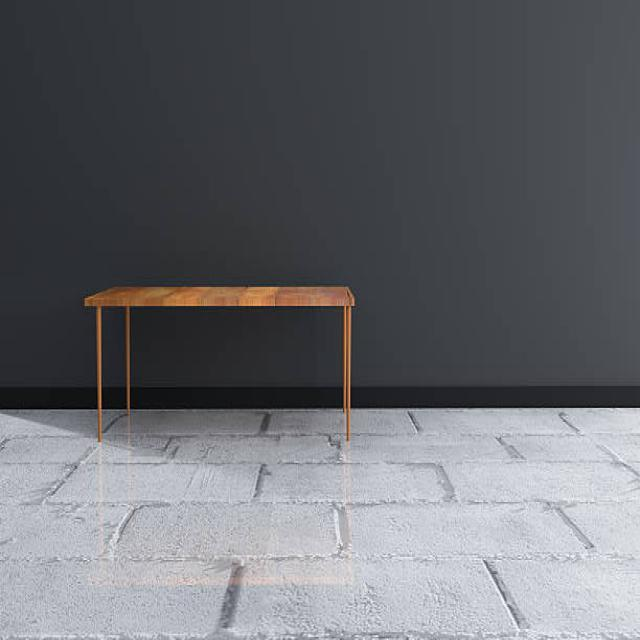table: (83, 282, 354, 444)
